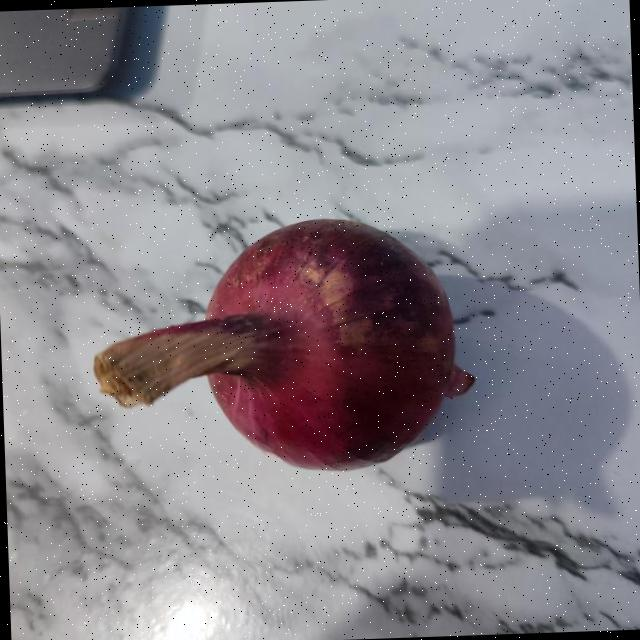Onion: (93, 219, 475, 470)
